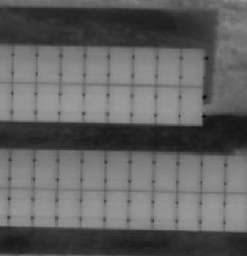solar: (81, 44, 111, 86), (104, 45, 134, 87), (130, 45, 160, 87), (155, 45, 185, 87), (177, 45, 207, 87), (9, 79, 39, 121), (32, 80, 62, 122), (56, 82, 86, 124), (80, 82, 110, 124), (104, 82, 134, 124), (128, 82, 158, 124), (153, 82, 183, 124), (177, 83, 207, 125), (6, 147, 36, 189), (30, 147, 60, 189), (54, 149, 84, 191), (78, 149, 108, 191), (103, 149, 133, 191), (126, 150, 156, 192), (150, 151, 180, 193), (174, 152, 204, 194), (199, 153, 229, 195), (4, 186, 34, 228), (28, 186, 58, 228), (53, 187, 83, 229), (78, 188, 108, 230), (101, 188, 131, 230), (127, 189, 157, 231), (150, 189, 180, 231), (174, 190, 204, 232), (197, 190, 227, 232), (8, 44, 38, 85), (34, 44, 64, 85), (57, 43, 87, 84), (222, 191, 247, 234), (222, 153, 247, 196)
